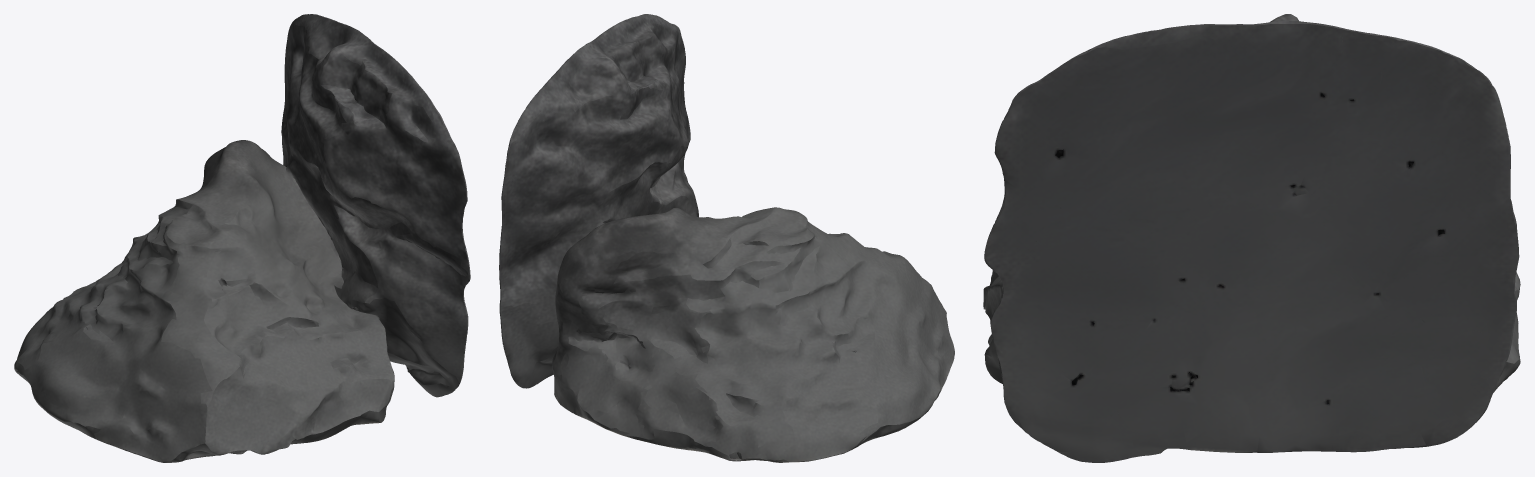
3 views of the same model, side by side, from view 1: azimuth 30°, elevation 25°; view 2: azimuth 150°, elevation 25°; view 3: azimuth 270°, elevation 25° (orthographic). The views are drawn at different scales.
Parts seen in each view (by area): view 1: world; view 2: world; view 3: world.
Boxes of the visible parts, x1,y1,x2,y2 form: world: (14, 14, 470, 462); world: (499, 14, 954, 462); world: (983, 14, 1520, 462).
Size of the model in its own units: 0.8 by 0.732 by 0.8017.
Materials: 1 (1 with a texture image).
